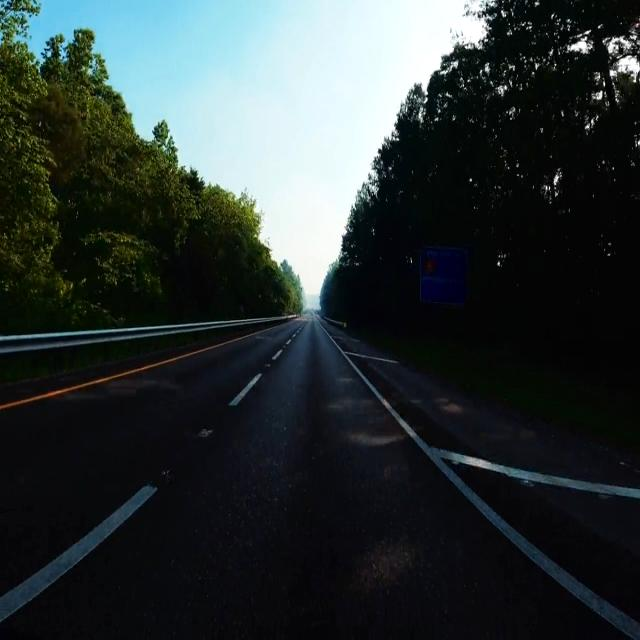lane: (344, 356, 640, 640), (0, 484, 156, 621)
road: (2, 320, 624, 638)
